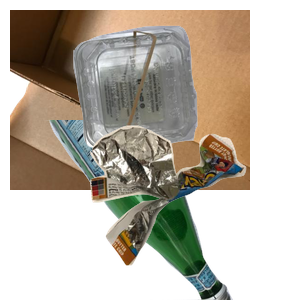cardboard: (10, 10, 250, 190)
glass: (37, 120, 262, 300)
plastic: (71, 23, 300, 169)
trash: (88, 123, 300, 300)
